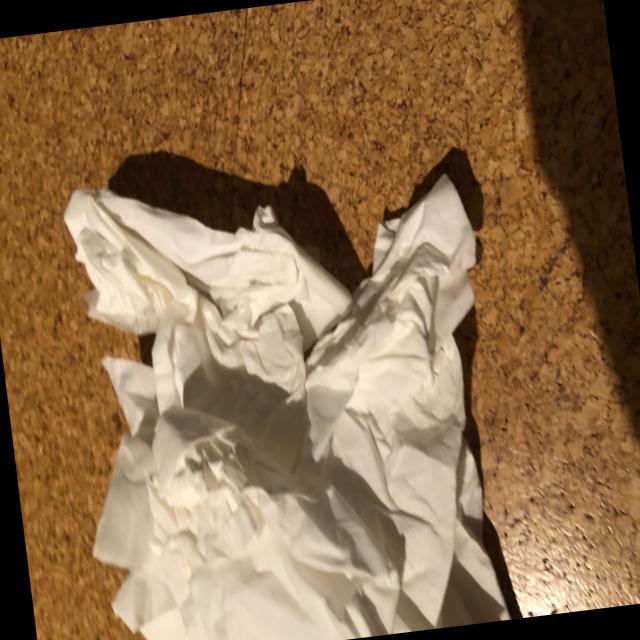organic waste: (44, 136, 527, 640)
